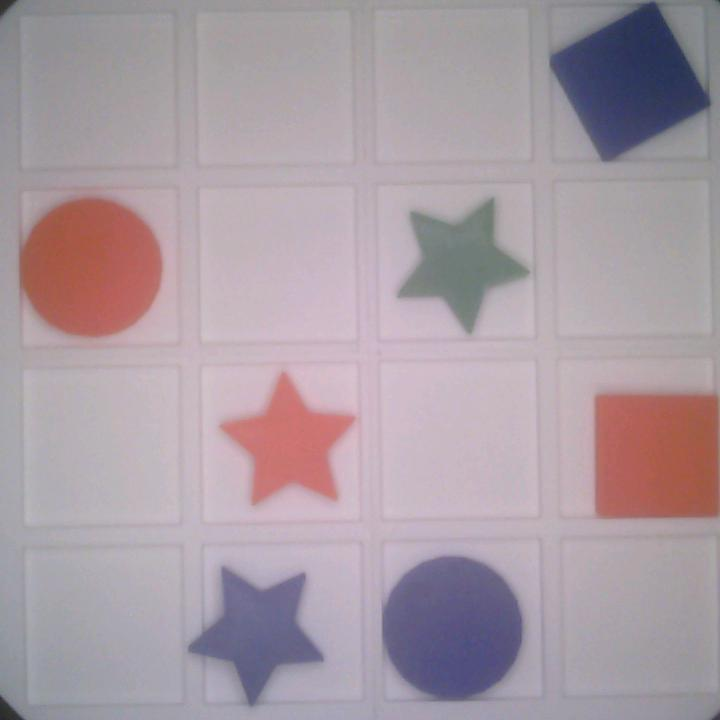Blue circle: (376, 551, 525, 698)
Blue square: (552, 4, 709, 162)
Blue star: (183, 560, 331, 702)
Green star: (392, 197, 528, 335)
Orange circle: (21, 194, 167, 338)
Orange square: (583, 386, 720, 523)
Orange star: (216, 370, 356, 510)
